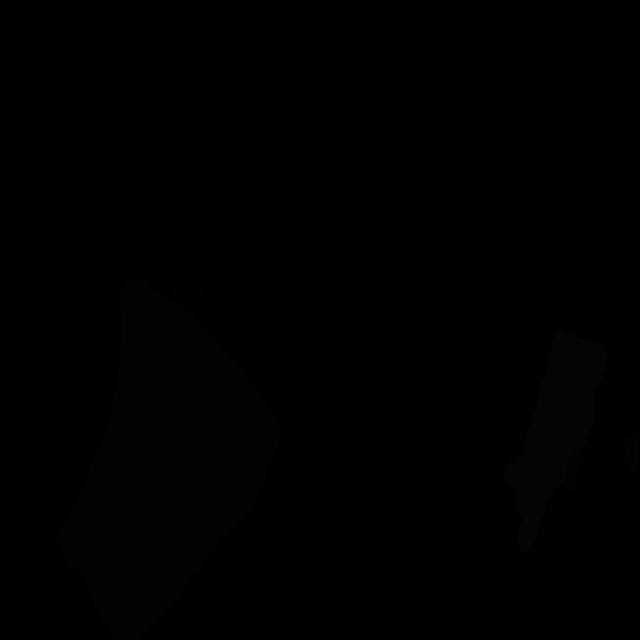cardboard: (54, 275, 284, 640), (564, 451, 583, 495), (624, 432, 639, 475)
rigid_plastic: (161, 243, 206, 317)
soft_plastic: (502, 329, 608, 553)
